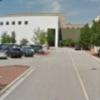cars: (6, 46, 24, 58)
